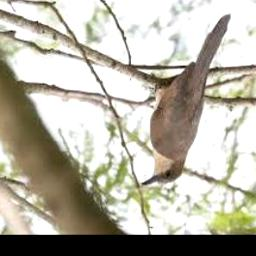Cuckoo: (142, 14, 231, 185)
